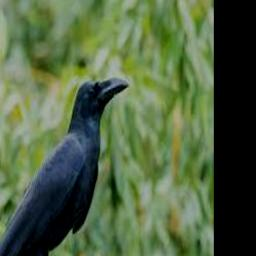Crow: (0, 76, 130, 256)
